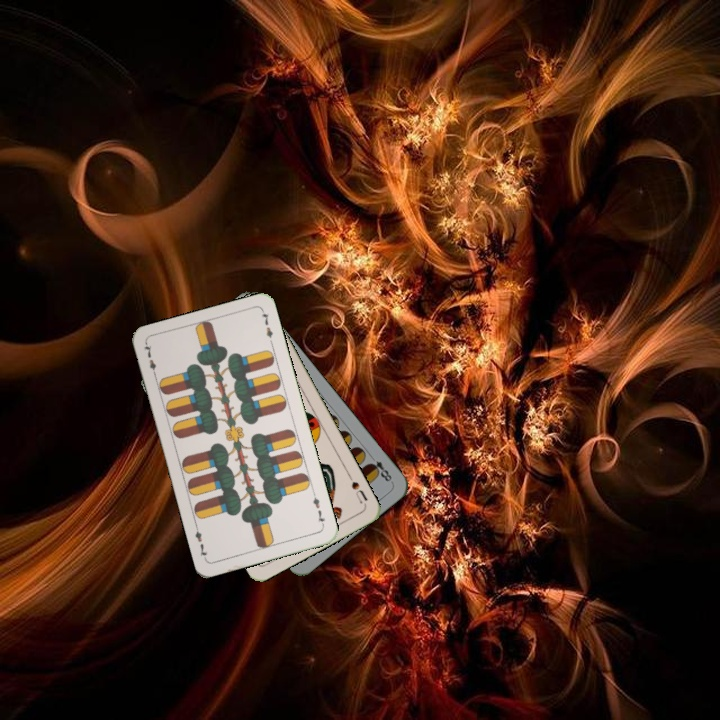E7: (308, 489, 328, 529), (140, 340, 159, 380)
E8: (365, 451, 395, 485)
SU: (344, 470, 370, 506)
